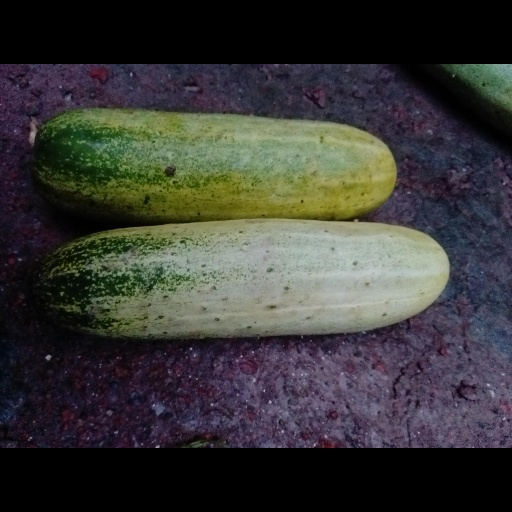concombre: (30, 218, 451, 340), (31, 108, 397, 226)
